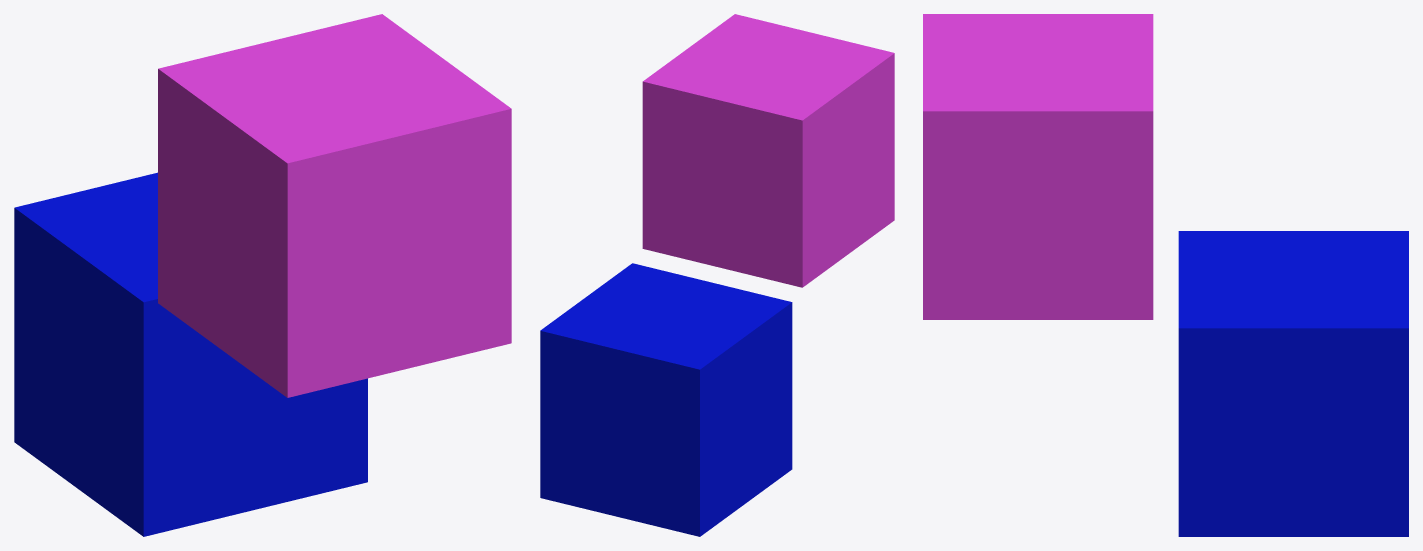
Rendered from sample.glb.
3 renders of one model, left to right at view 1: azimuth 30°, elevation 25°; view 2: azimuth 150°, elevation 25°; view 3: azimuth 270°, elevation 25°, orthographic. The views are drawn at different scales.
Visible parts, largest first — view 1: Cube; view 2: Cube; view 3: Cube.
Part boxes in pixels (box(x1,y1,x2,y2)): Cube: box(14, 14, 511, 536); Cube: box(540, 14, 894, 536); Cube: box(923, 14, 1408, 536).
Bounding box in the file's own units: 2 × 4.08 × 4.22.
